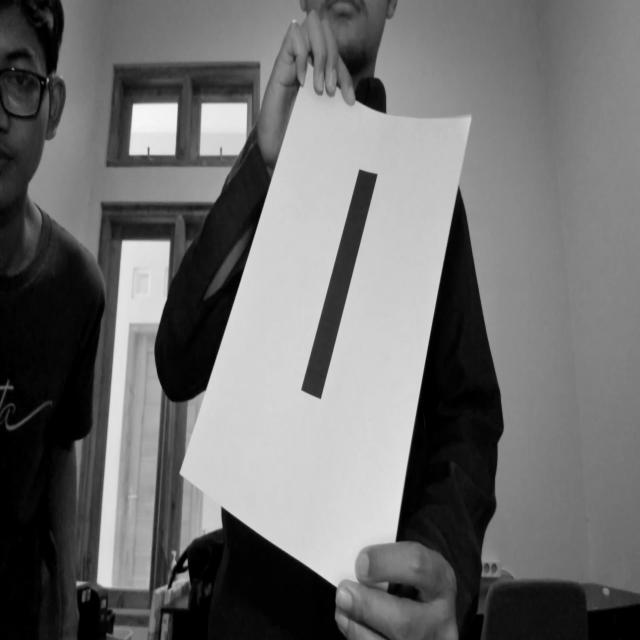i: (294, 151, 388, 406)
